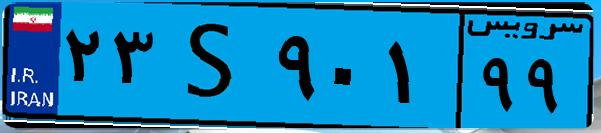0: (330, 28, 385, 110)
1: (385, 28, 445, 110)
2: (57, 26, 110, 100)
3: (110, 28, 158, 98)
9: (270, 28, 330, 110), (475, 38, 525, 113), (525, 38, 570, 115)
S: (158, 12, 270, 120)
